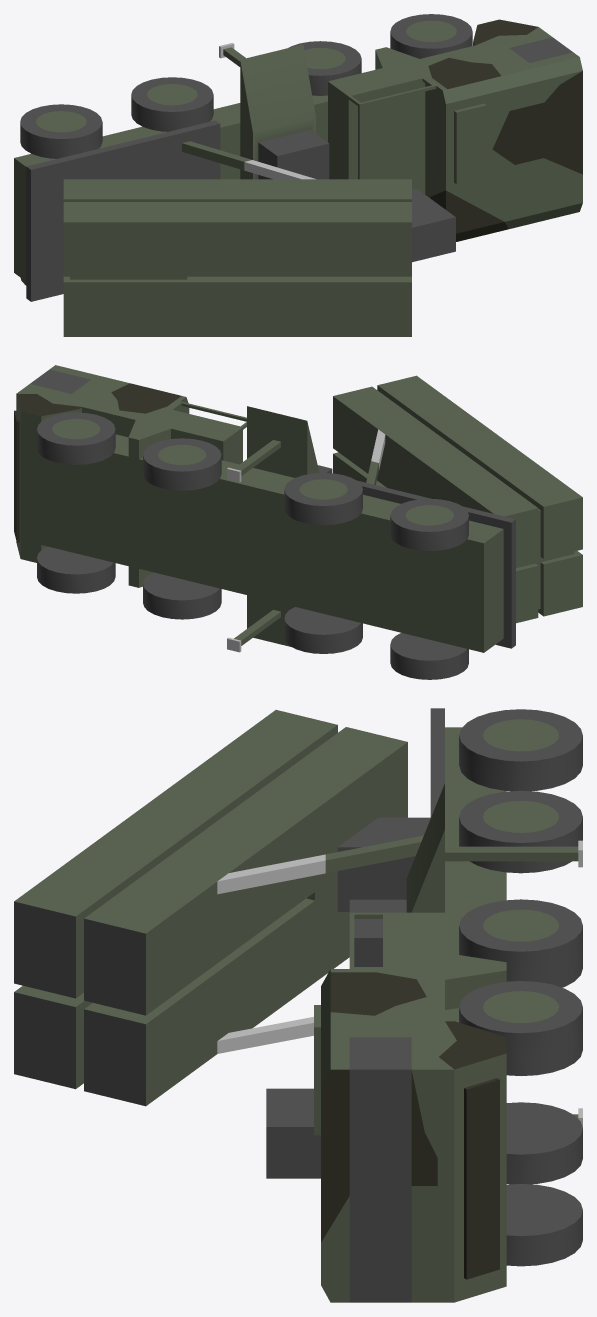
The model's file is patriot.dae.
The picture shows the model from 3 angles, top to bottom: view 1: azimuth 30°, elevation 25°; view 2: azimuth 150°, elevation 25°; view 3: azimuth 270°, elevation 25°; orthographic projection. The views are drawn at different scales.
Visible parts, largest first — view 1: coords_ME_ID107_MA_Color_F20, coords_ME_ID43_MA_Color_F20, coords_ME_ID37_MA_material, coords_ME_ID131_MA_Color_E25, coords_ME_ID55_MA_material, coords_ME_ID49_MA_material, coords_ME_ID61_MA_material, coords_ME_ID149_MA_material, coords_ME_ID119_MA_Color_F20, coords_ME_ID25_MA_material, coords_ME_ID137_MA_Color_E25, coords_ME_ID67_MA_material (+9 smaller); view 2: coords_ME_ID43_MA_Color_F20, coords_ME_ID107_MA_Color_F20, coords_ME_ID37_MA_material, coords_ME_ID11_MA_material, coords_ME_ID31_MA_material, coords_ME_ID81_MA_material, coords_ME_ID19_MA_material, coords_ME_ID67_MA_material, coords_ME_ID49_MA_material, coords_ME_ID25_MA_material, coords_ME_ID55_MA_material, coords_ME_ID203_MA_Color_E25 (+9 smaller); view 3: coords_ME_ID107_MA_Color_F20, coords_ME_ID43_MA_Color_F20, coords_ME_ID125_MA_material, coords_ME_ID55_MA_material, coords_ME_ID93_MA_Color_E25, coords_ME_ID67_MA_material, coords_ME_ID25_MA_material, coords_ME_ID81_MA_material, coords_ME_ID11_MA_material, coords_ME_ID49_MA_material, coords_ME_ID179_MA_material, coords_ME_ID215_MA_material (+20 smaller).
Boxes of the visible parts, bbox=[...] form: coords_ME_ID107_MA_Color_F20: bbox=[63, 179, 411, 336]; coords_ME_ID43_MA_Color_F20: bbox=[14, 27, 582, 281]; coords_ME_ID37_MA_material: bbox=[26, 120, 220, 301]; coords_ME_ID131_MA_Color_E25: bbox=[492, 71, 582, 174]; coords_ME_ID55_MA_material: bbox=[20, 104, 102, 158]; coords_ME_ID49_MA_material: bbox=[131, 77, 213, 131]; coords_ME_ID61_MA_material: bbox=[258, 129, 329, 179]; coords_ME_ID149_MA_material: bbox=[412, 189, 455, 262]; coords_ME_ID119_MA_Color_F20: bbox=[454, 103, 486, 184]; coords_ME_ID25_MA_material: bbox=[390, 14, 472, 58]; coords_ME_ID137_MA_Color_E25: bbox=[430, 190, 508, 241]; coords_ME_ID67_MA_material: bbox=[288, 41, 361, 95]; coords_ME_ID43_MA_Color_F20: bbox=[16, 365, 503, 652]; coords_ME_ID107_MA_Color_F20: bbox=[333, 375, 582, 623]; coords_ME_ID37_MA_material: bbox=[357, 480, 515, 648]; coords_ME_ID11_MA_material: bbox=[143, 572, 221, 619]; coords_ME_ID31_MA_material: bbox=[390, 633, 468, 679]; coords_ME_ID81_MA_material: bbox=[37, 546, 115, 593]; coords_ME_ID19_MA_material: bbox=[284, 607, 362, 653]; coords_ME_ID67_MA_material: bbox=[143, 438, 221, 490]; coords_ME_ID49_MA_material: bbox=[284, 473, 362, 525]; coords_ME_ID25_MA_material: bbox=[37, 412, 115, 464]; coords_ME_ID55_MA_material: bbox=[390, 498, 468, 550]; coords_ME_ID203_MA_Color_E25: bbox=[111, 383, 181, 413]; coords_ME_ID107_MA_Color_F20: bbox=[14, 710, 407, 1105]; coords_ME_ID43_MA_Color_F20: bbox=[321, 727, 506, 1302]; coords_ME_ID125_MA_material: bbox=[349, 1037, 411, 1302]; coords_ME_ID55_MA_material: bbox=[459, 709, 582, 791]; coords_ME_ID93_MA_Color_E25: bbox=[464, 1078, 499, 1279]; coords_ME_ID67_MA_material: bbox=[459, 899, 582, 981]; coords_ME_ID25_MA_material: bbox=[459, 981, 582, 1063]; coords_ME_ID81_MA_material: bbox=[506, 1184, 582, 1266]; coords_ME_ID11_MA_material: bbox=[506, 1102, 582, 1184]; coords_ME_ID49_MA_material: bbox=[459, 790, 582, 873]; coords_ME_ID179_MA_material: bbox=[14, 992, 75, 1089]; coords_ME_ID215_MA_material: bbox=[84, 1009, 145, 1106].
Size of the model in its own units: 110 by 47.45 by 67.48.
